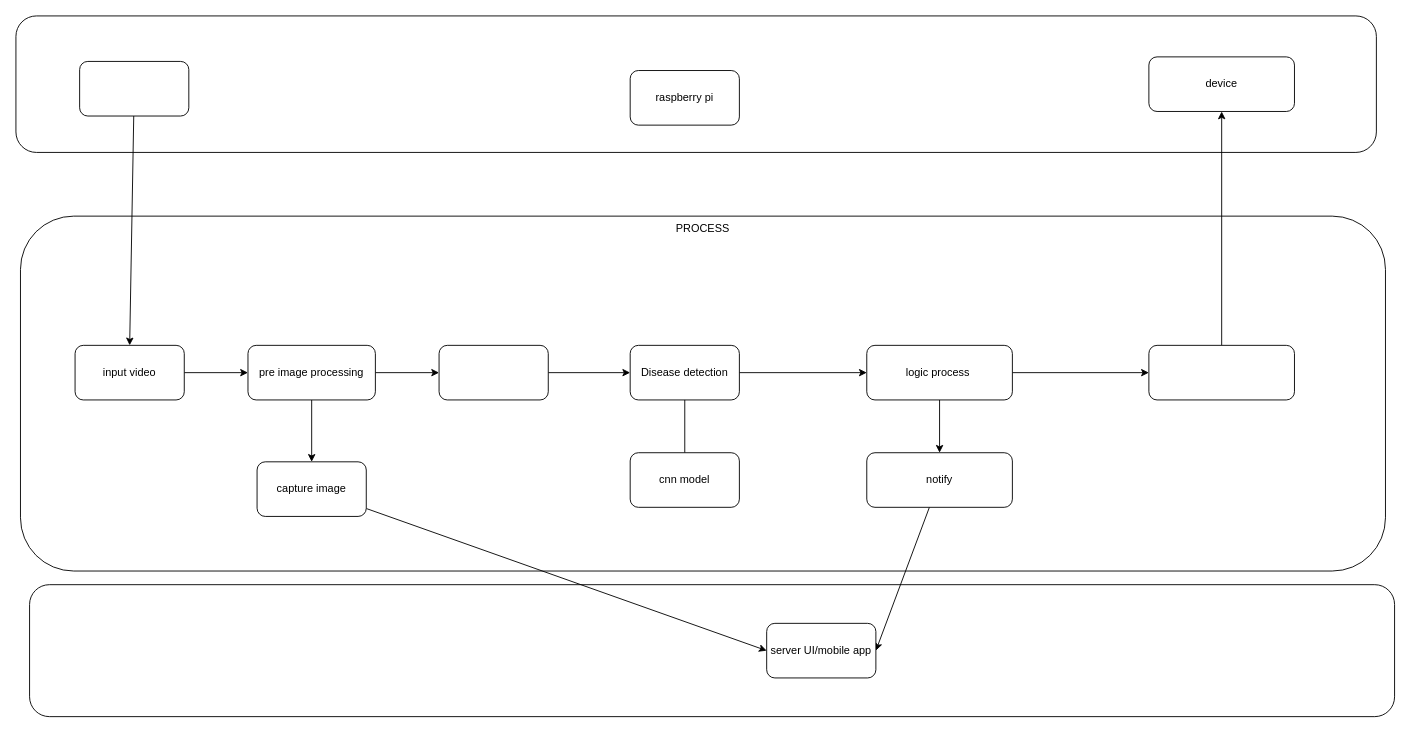
Some shapes in this 1411 by 733 pixel diagram are drawn without their labels. Each missing label, with the box of its shape:
camera: (79, 61, 189, 116)
device control: (1148, 344, 1294, 400)
DISPLAY: (29, 584, 1395, 717)
HARDWARE: (15, 15, 1376, 152)
leaf detection: (438, 344, 548, 400)
